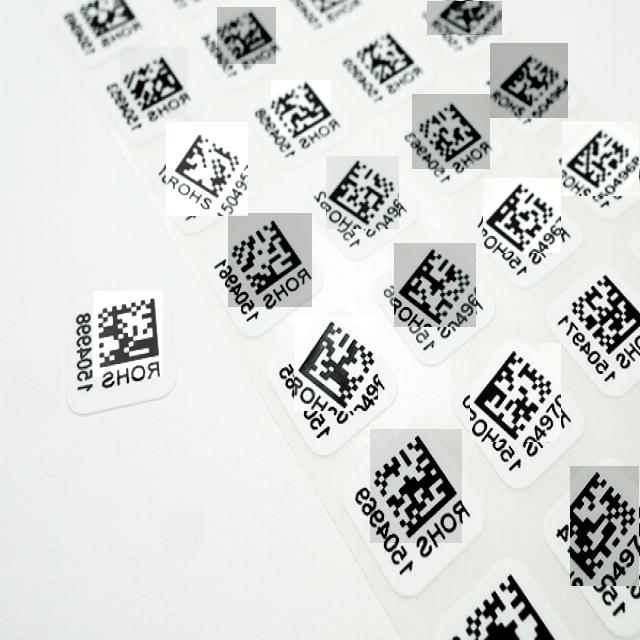DataMatrix: (370, 430, 462, 544), (470, 343, 561, 442), (570, 466, 639, 586), (294, 317, 378, 411), (228, 214, 312, 308), (166, 122, 248, 216), (394, 243, 476, 327), (93, 291, 163, 377), (483, 178, 561, 253), (412, 94, 490, 169), (490, 43, 568, 118), (562, 121, 639, 196), (326, 156, 399, 229), (120, 47, 188, 119), (217, 7, 276, 64), (271, 80, 331, 136), (427, 2, 502, 36)
